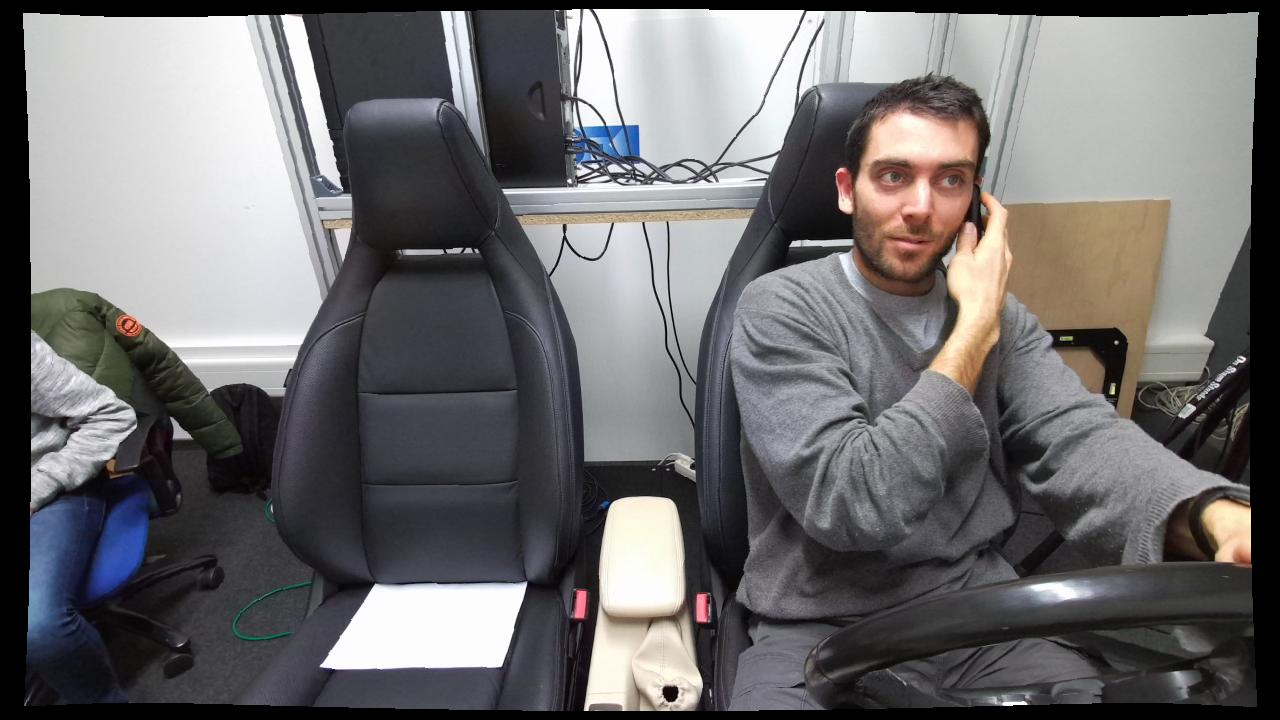PhoneUse: (914, 151, 1024, 313)
